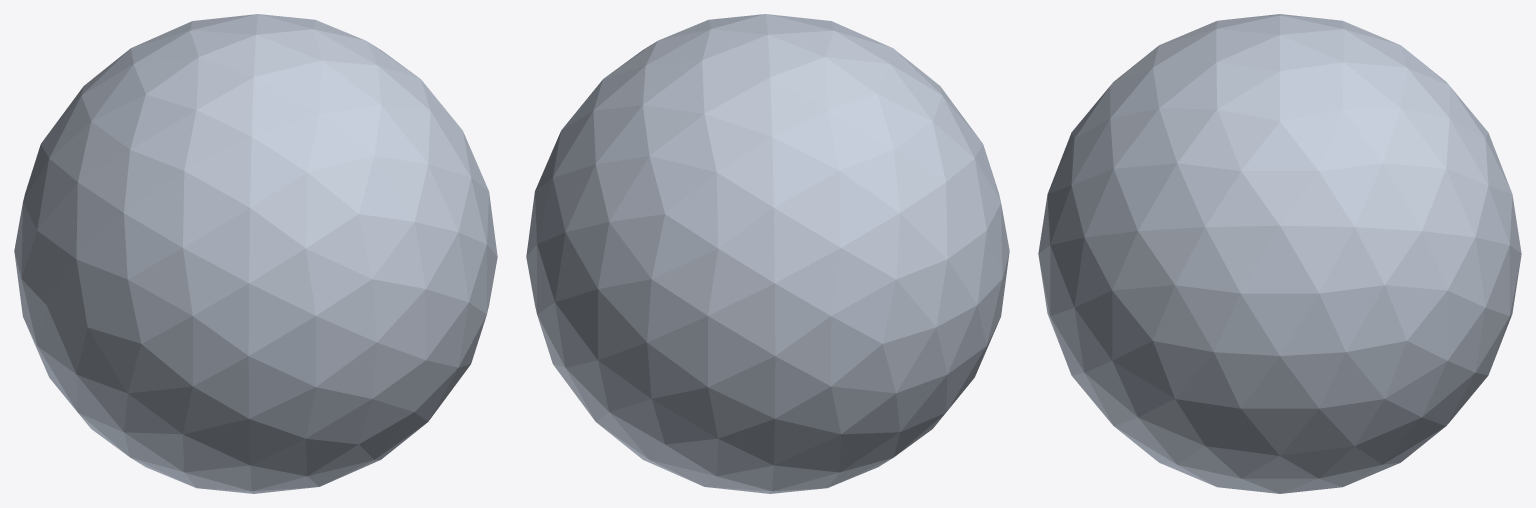
The model's file is pendant.glb.
3 renders of one model, left to right at view 1: azimuth 30°, elevation 25°; view 2: azimuth 150°, elevation 25°; view 3: azimuth 270°, elevation 25°, orthographic.
Parts seen in each view (by area): view 1: world; view 2: world; view 3: world.
Part boxes in pixels (left/top/right/bottom): world: left=14, top=14, right=497, bottom=493; world: left=526, top=14, right=1009, bottom=493; world: left=1038, top=14, right=1521, bottom=493.
Size of the model in its own units: 1.6 by 1.6 by 1.6.
